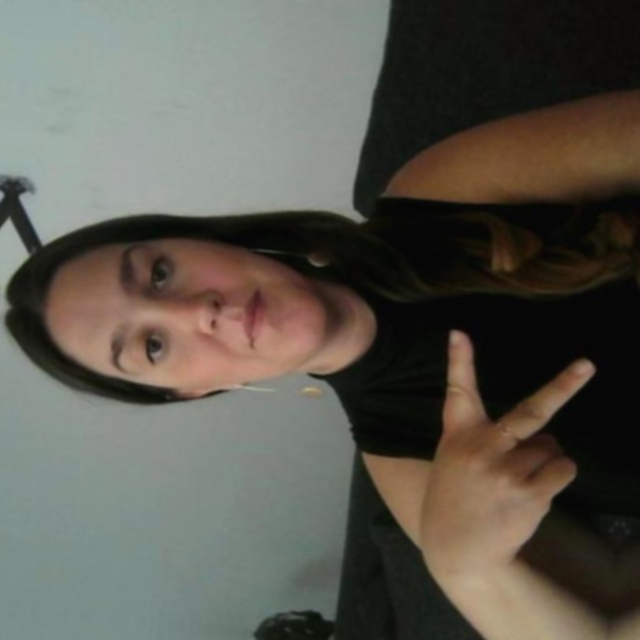Scissors: (392, 321, 601, 575)
